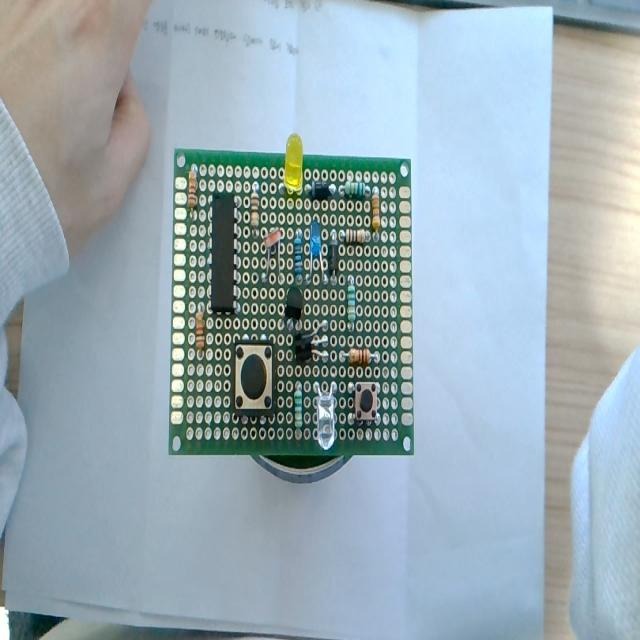IC: (202, 185, 246, 320)
cds: (262, 224, 288, 286)
diode: (303, 176, 340, 204), (327, 223, 342, 286)
led: (276, 130, 308, 199), (312, 375, 340, 453), (306, 222, 328, 286)
resistor: (182, 156, 198, 228), (340, 345, 381, 371), (189, 305, 205, 371), (291, 379, 305, 441), (368, 185, 383, 240), (345, 271, 357, 333), (340, 225, 372, 247), (250, 178, 262, 236), (338, 178, 369, 198), (296, 226, 306, 284)
switch: (227, 334, 277, 424), (350, 375, 382, 428)
transistor: (295, 323, 333, 369), (282, 286, 304, 334)
